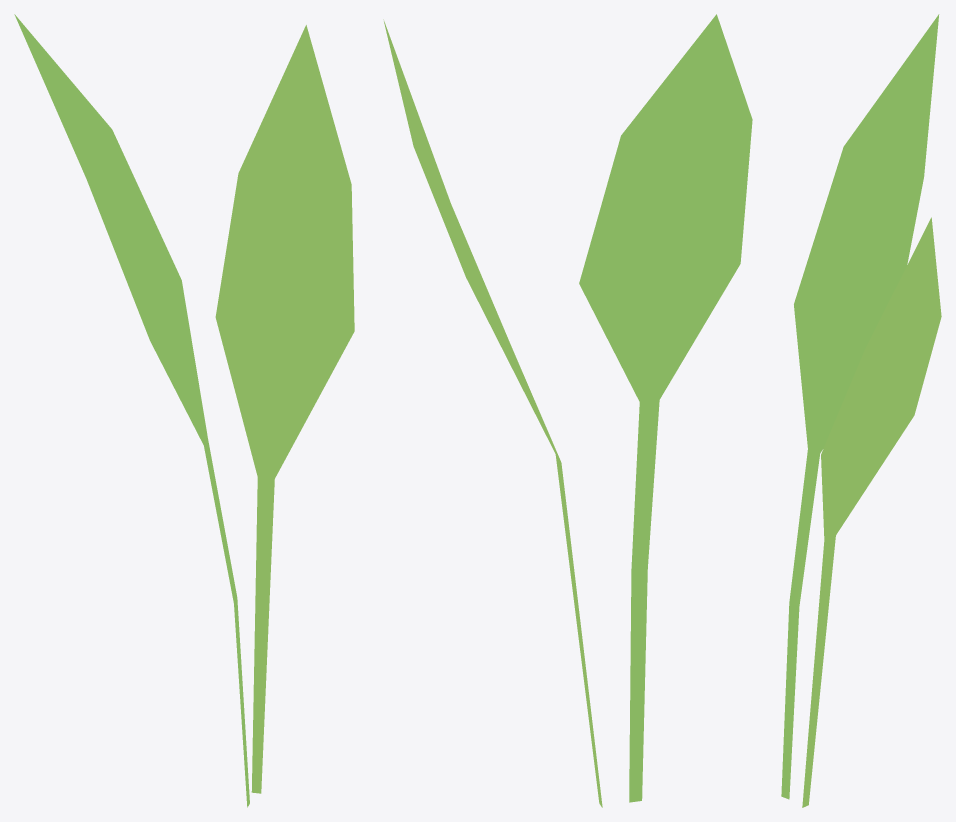
The model's file is Plant_g_TwoS_02.fbx.
3 renders of one model, left to right at view 1: azimuth 30°, elevation 25°; view 2: azimuth 150°, elevation 25°; view 3: azimuth 270°, elevation 25°, orthographic. The views are drawn at different scales.
Parts seen in each view (by area): view 1: Plant_g_TwoS_02; view 2: Plant_g_TwoS_02; view 3: Plant_g_TwoS_02.
Boxes of the visible parts, x1=… form: Plant_g_TwoS_02: x1=14, y1=14, x2=354, y2=807; Plant_g_TwoS_02: x1=383, y1=14, x2=752, y2=807; Plant_g_TwoS_02: x1=781, y1=14, x2=941, y2=807.
Size of the model in its own units: 0.2669 by 0.658 by 0.1336.
